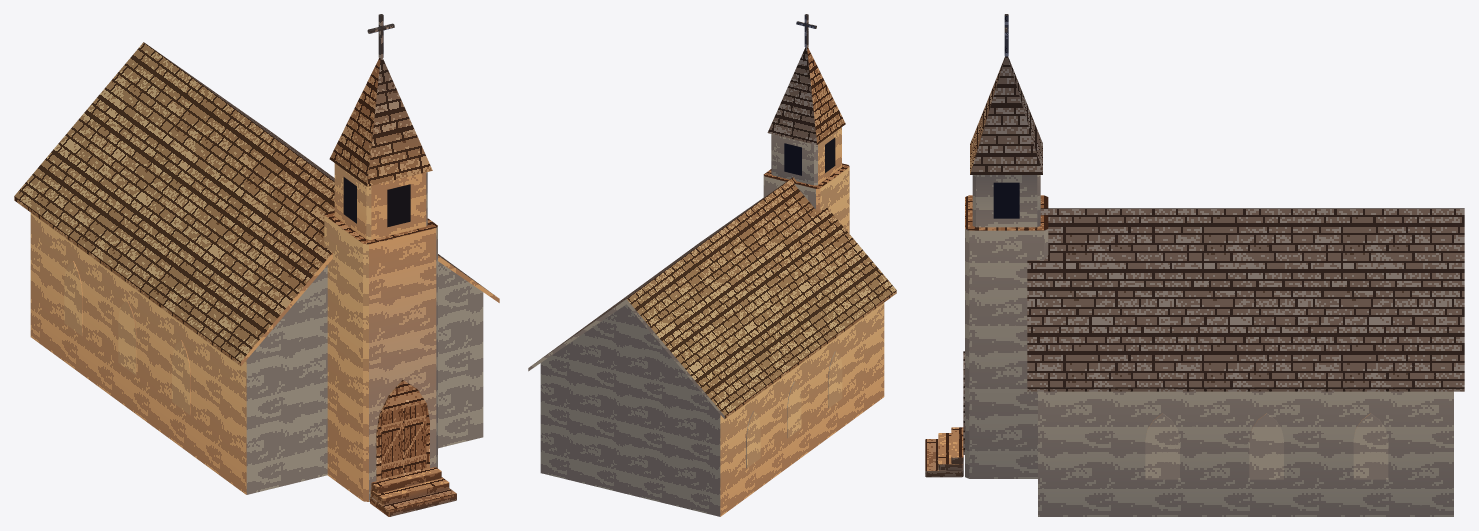
Rendered from wtown.church.glb.
3 renders of one model, left to right at view 1: azimuth 30°, elevation 25°; view 2: azimuth 150°, elevation 25°; view 3: azimuth 270°, elevation 25°, orthographic. The views are drawn at different scales.
Visible parts, largest first — view 1: kit_roof, kit_body, kit_tower, kit_spire, kit_card_panes, kit_belfry, kit_windows, kit_steps, kit_trim; view 2: kit_body, kit_roof, kit_spire, kit_belfry, kit_tower, kit_windows, kit_card_panes; view 3: kit_roof, kit_body, kit_tower, kit_windows, kit_spire, kit_belfry, kit_steps, kit_card_panes.
Part boxes in pixels (<box>): kit_roof: <box>14,42,499,365</box>; kit_body: <box>30,213,483,494</box>; kit_tower: <box>324,211,437,501</box>; kit_spire: <box>329,58,432,186</box>; kit_card_panes: <box>343,177,426,478</box>; kit_belfry: <box>334,163,427,239</box>; kit_windows: <box>64,261,190,415</box>; kit_steps: <box>370,467,456,516</box>; kit_trim: <box>376,380,429,481</box>; kit_body: <box>540,303,884,516</box>; kit_roof: <box>528,177,896,419</box>; kit_spire: <box>767,47,845,144</box>; kit_belfry: <box>771,127,841,185</box>; kit_tower: <box>763,163,849,233</box>; kit_windows: <box>746,351,842,468</box>; kit_card_panes: <box>784,137,835,175</box>; kit_roof: <box>1027,208,1464,391</box>; kit_body: <box>1038,391,1453,516</box>; kit_tower: <box>965,195,1048,478</box>; kit_windows: <box>1145,413,1388,479</box>; kit_spire: <box>970,56,1042,174</box>; kit_belfry: <box>972,175,1040,227</box>; kit_steps: <box>925,427,963,477</box>; kit_card_panes: <box>993,182,1019,218</box>.
Size of the model in its own units: 8.3 by 14.2 by 15.54.
9 materials, 9 textured.
